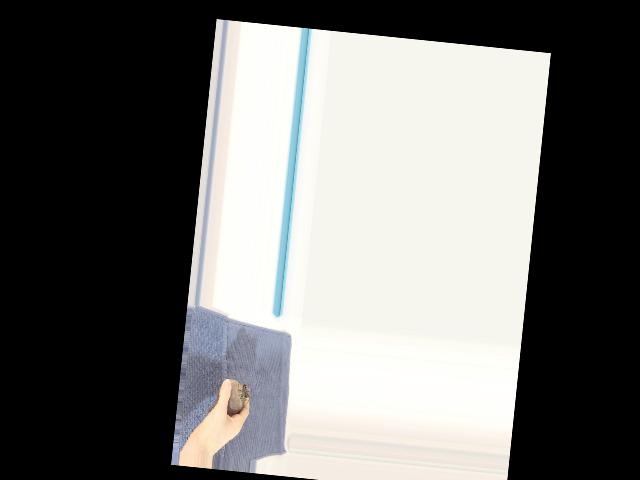beet: (204, 376, 250, 416)
